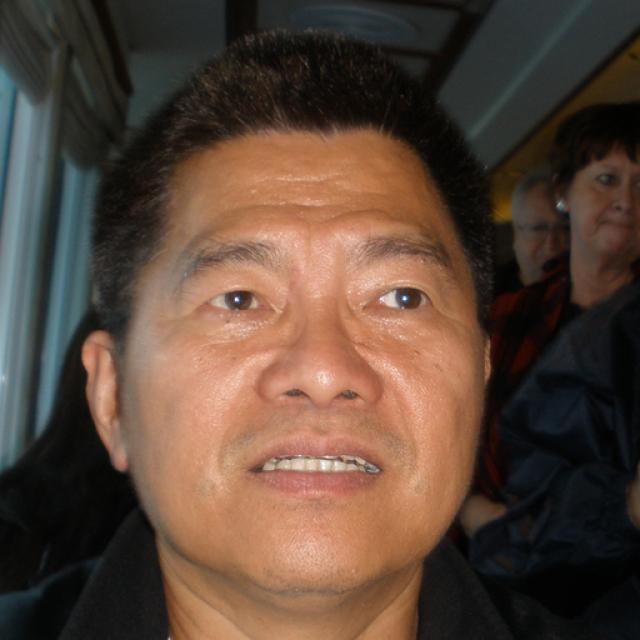Wrinkle: (234, 190, 329, 213), (329, 199, 392, 229)
